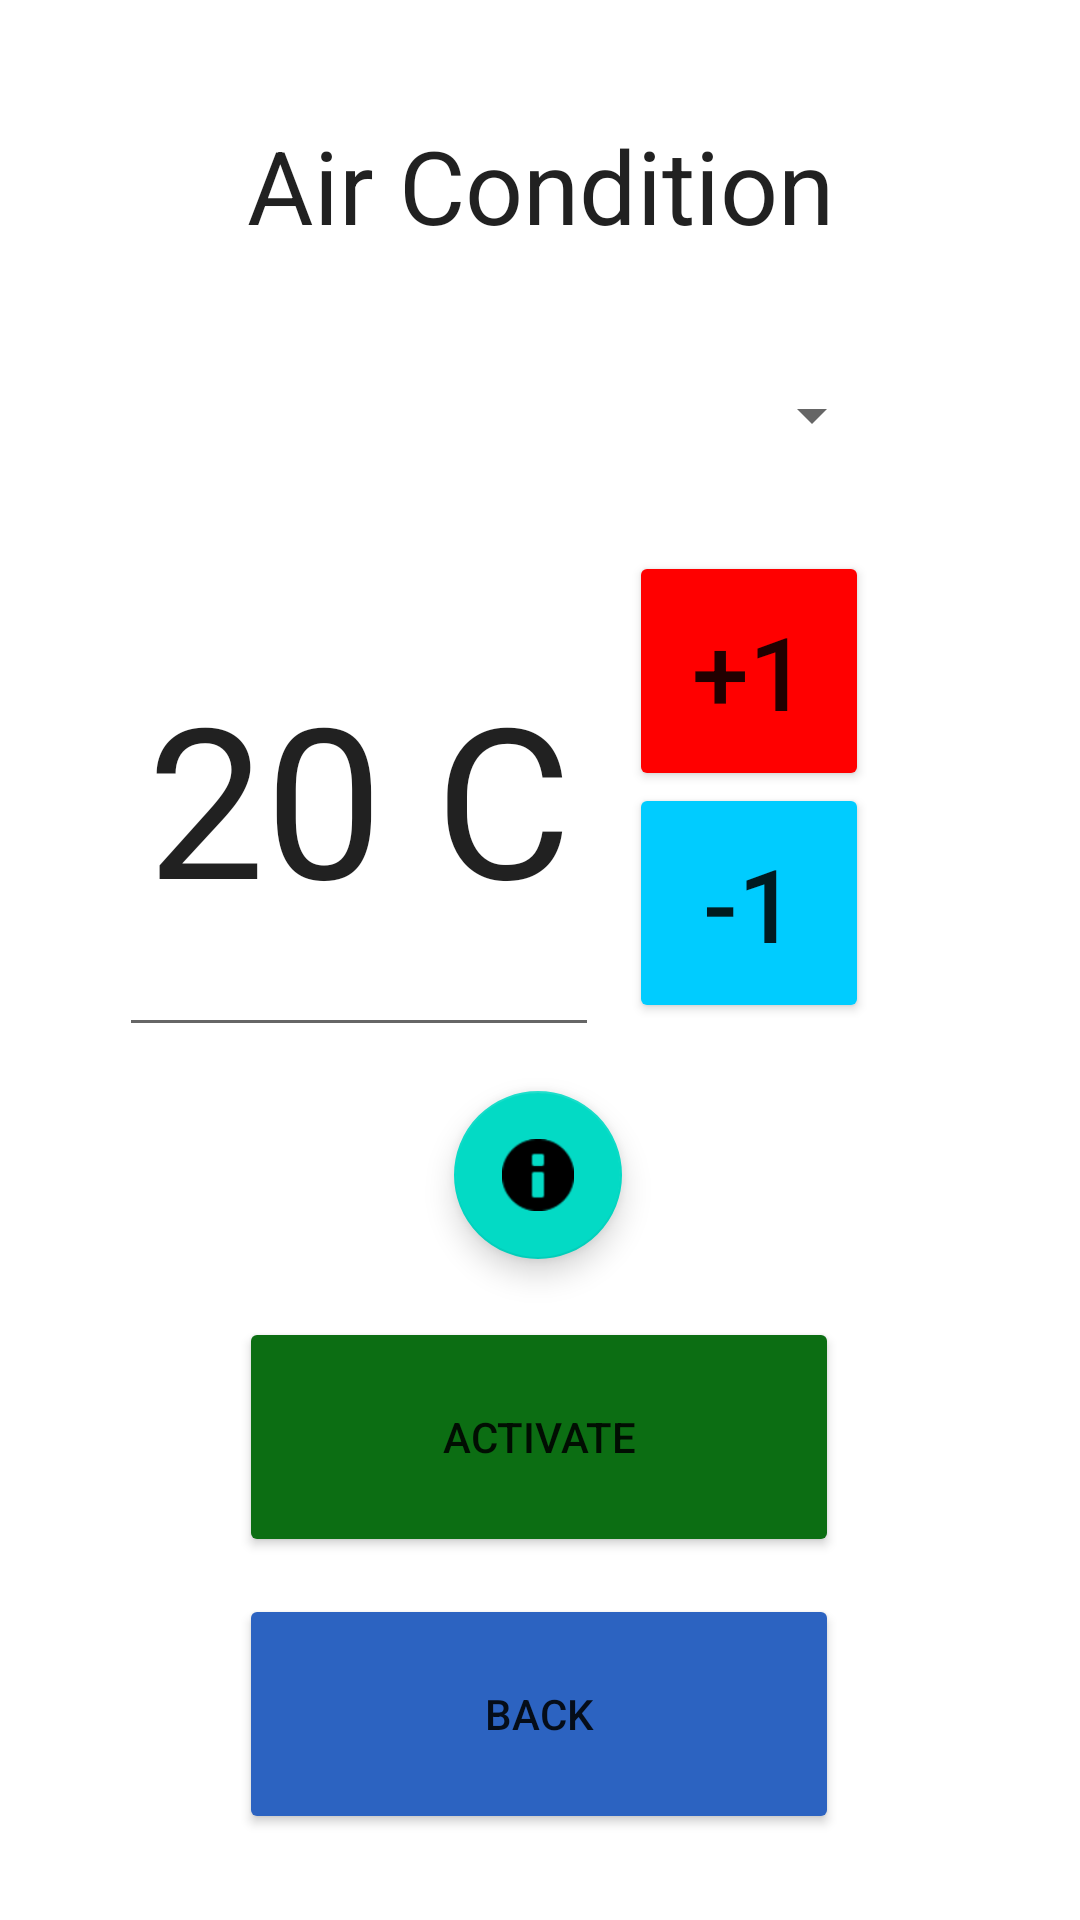

Where icons sit on this 1080px×1920px app screen, as bbox(x1, y1, x2, y2):
info: bbox(454, 1091, 622, 1259)
